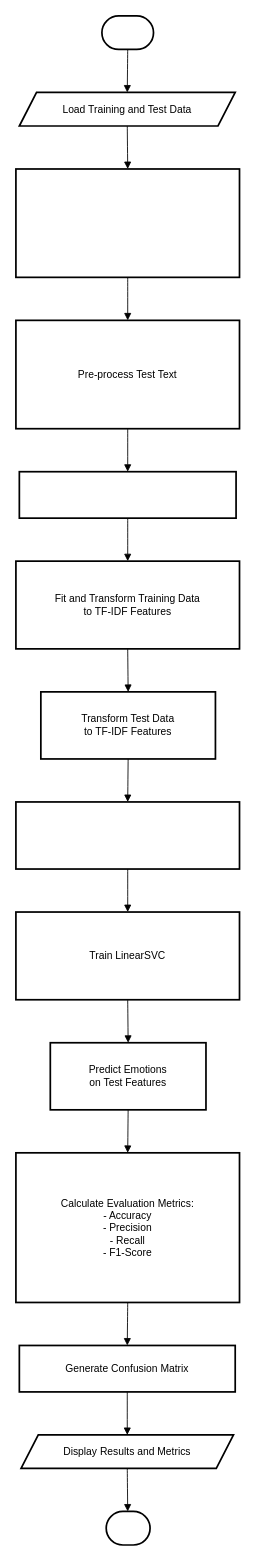
This 255x1560 diagram has some shape labels left out. Each missing label, with the centre of its shape:
"End" belongs at pixel 127 1527.
"Initialize LinearSVC Classifier" belongs at pixel 127 835.
"Initialize TF-IDF Vectorizer" belongs at pixel 127 494.
"Pre-process Training Text" belongs at pixel 127 223.
"Start" belongs at pixel 127 32.
